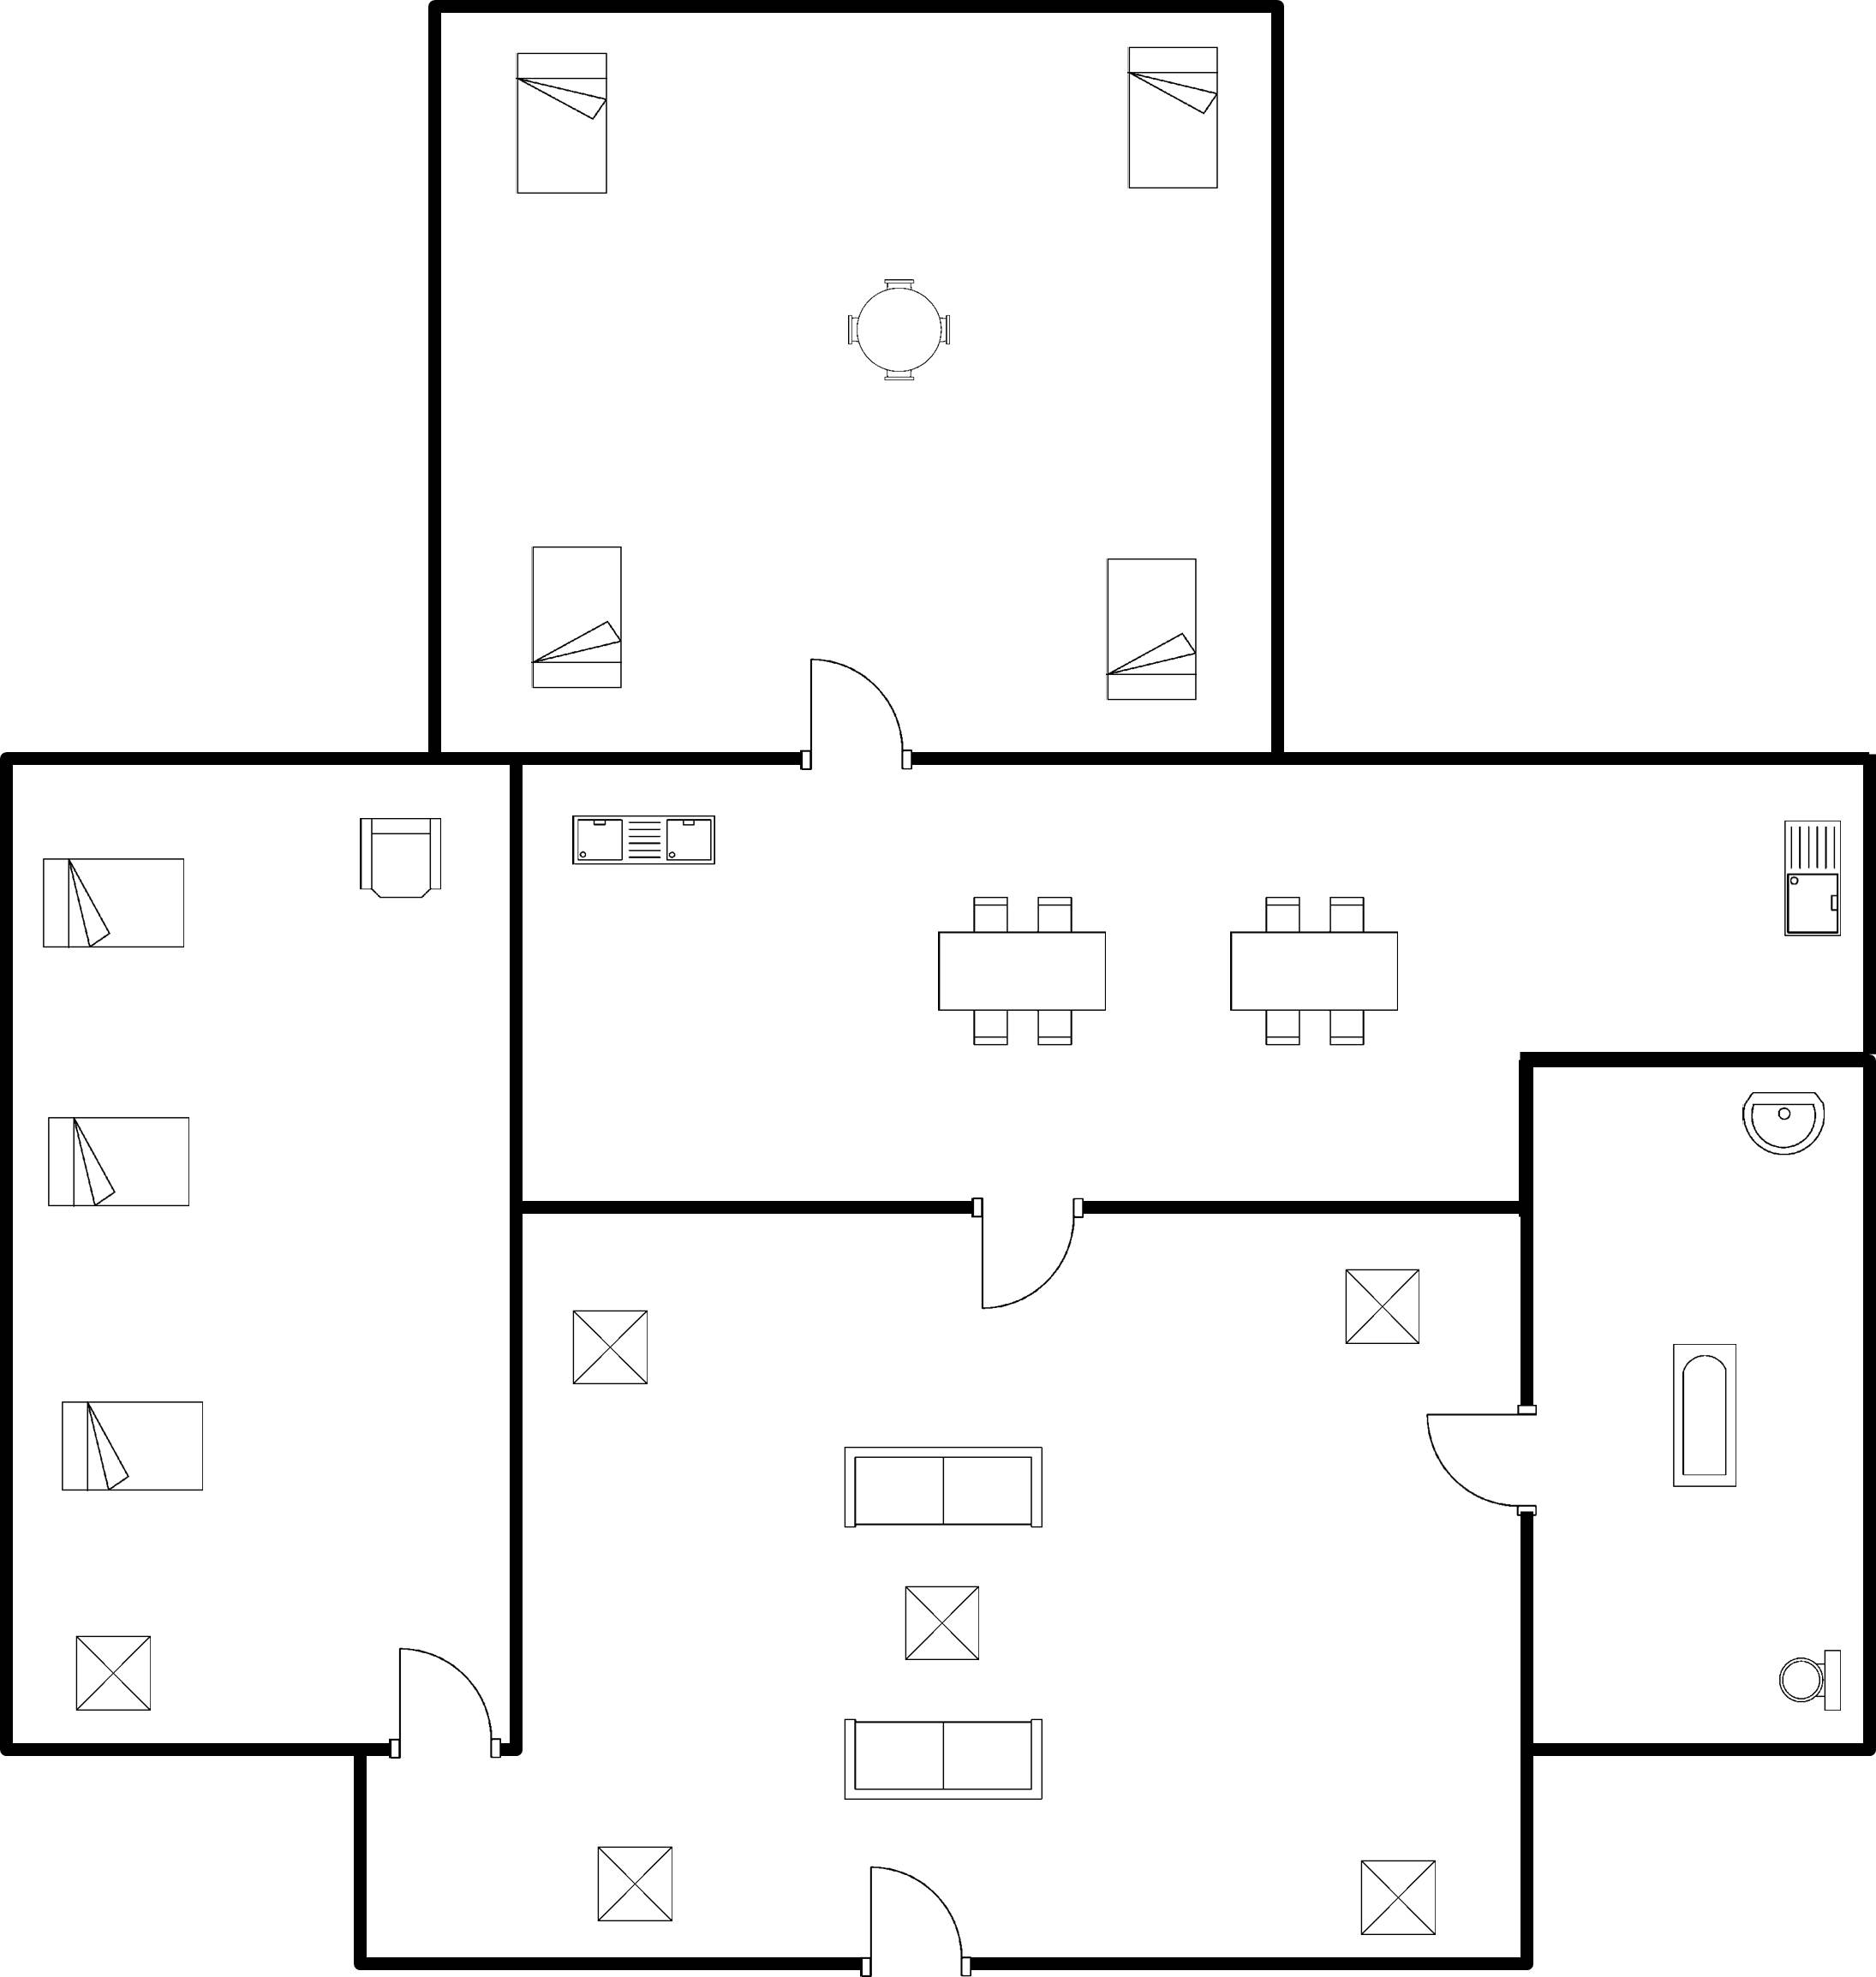armchair: (347, 802, 456, 917)
bed: (33, 1102, 203, 1227), (503, 39, 624, 212), (518, 533, 641, 700), (1112, 31, 1228, 202), (1090, 545, 1210, 712), (29, 845, 197, 961), (49, 1393, 218, 1504)
coffee_table: (559, 1298, 662, 1403), (61, 1625, 171, 1723), (1332, 1257, 1431, 1364), (583, 1833, 690, 1931), (1344, 1851, 1453, 1942), (896, 1573, 989, 1669)
dining_table: (917, 883, 1121, 1054), (1210, 885, 1413, 1056)
large_sink: (1760, 1639, 1858, 1720)
large_sofa: (826, 1711, 1066, 1819), (832, 1432, 1055, 1541)
round_table: (832, 270, 966, 398)
sink: (1770, 805, 1852, 952)
small_sink: (1725, 1080, 1834, 1169)
tub: (1655, 1331, 1751, 1498)
twin_sink: (561, 802, 731, 881)
